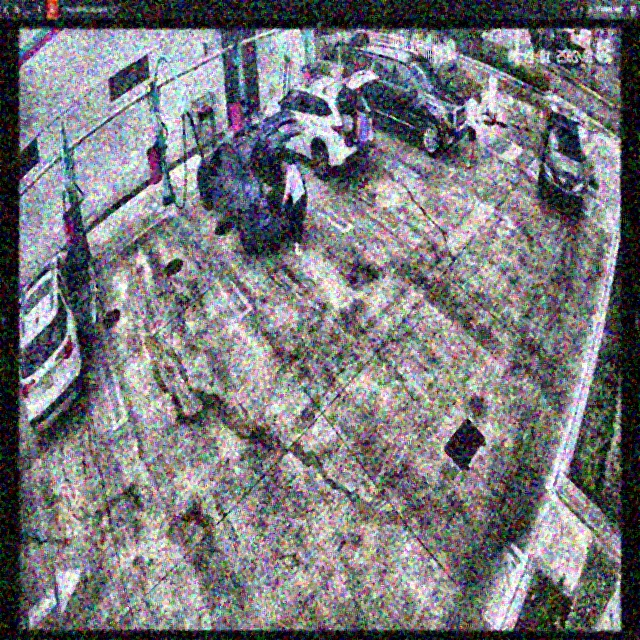Car: (196, 116, 305, 255), (262, 70, 378, 174)
